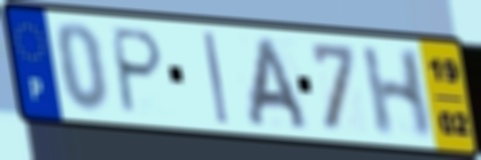0: (53, 19, 113, 116)
7: (309, 40, 360, 135)
A: (245, 34, 312, 133)
H: (358, 45, 435, 141)
I: (200, 29, 231, 127)
P: (110, 24, 166, 117)
